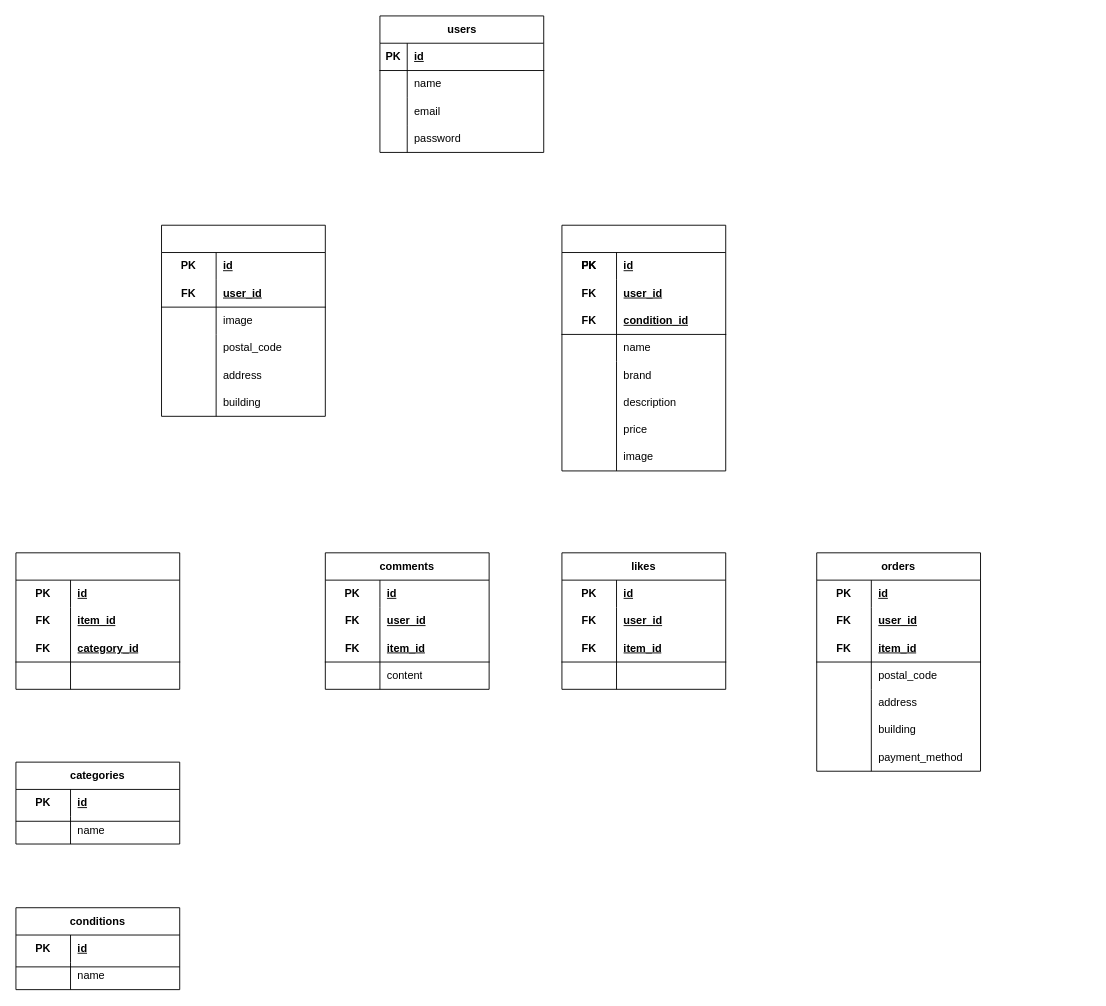
The diagram is 1106 pixels wide and 1006 high, and some of its shapes have lost their labels. Here are the shapes that lost their labels. From the top down, the box of each, then its label:
(161, 224, 325, 416): profiles
(561, 224, 726, 471): items
(15, 552, 180, 689): category_items
